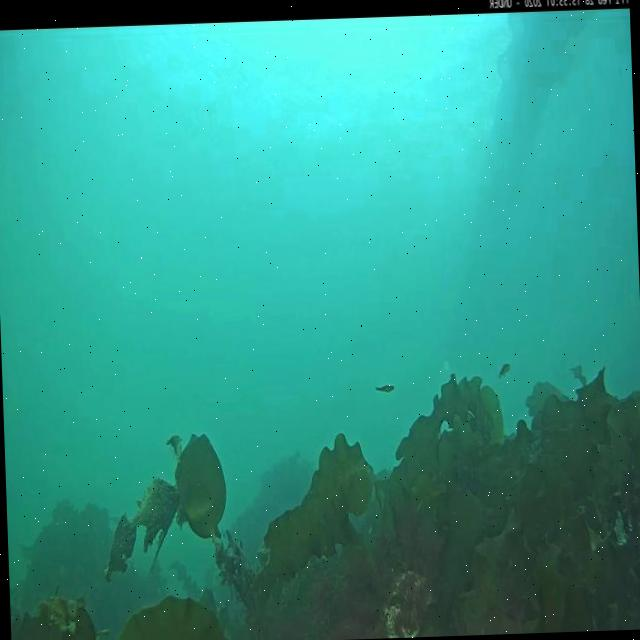fish: (494, 362, 512, 378), (376, 382, 395, 392)
